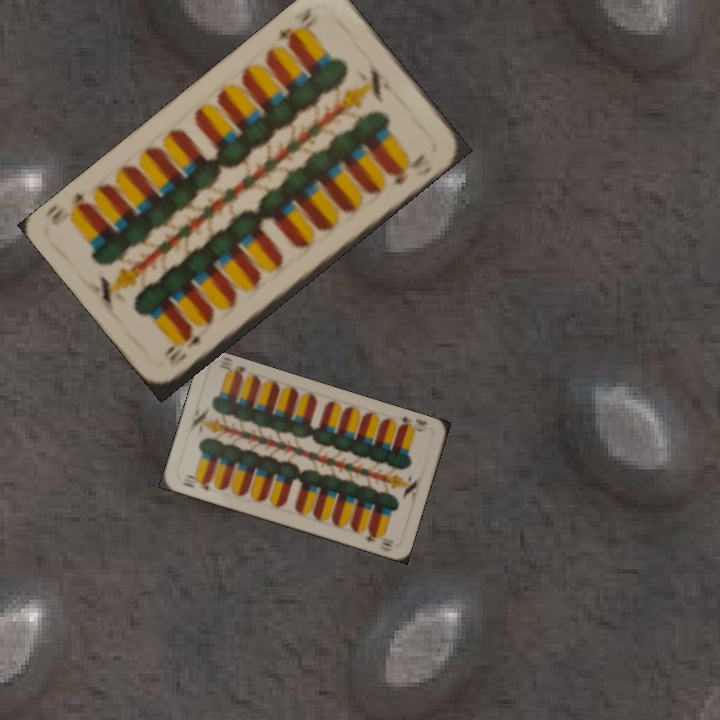E10: (273, 3, 315, 49), (165, 332, 203, 369), (178, 470, 214, 493), (394, 412, 430, 435)
